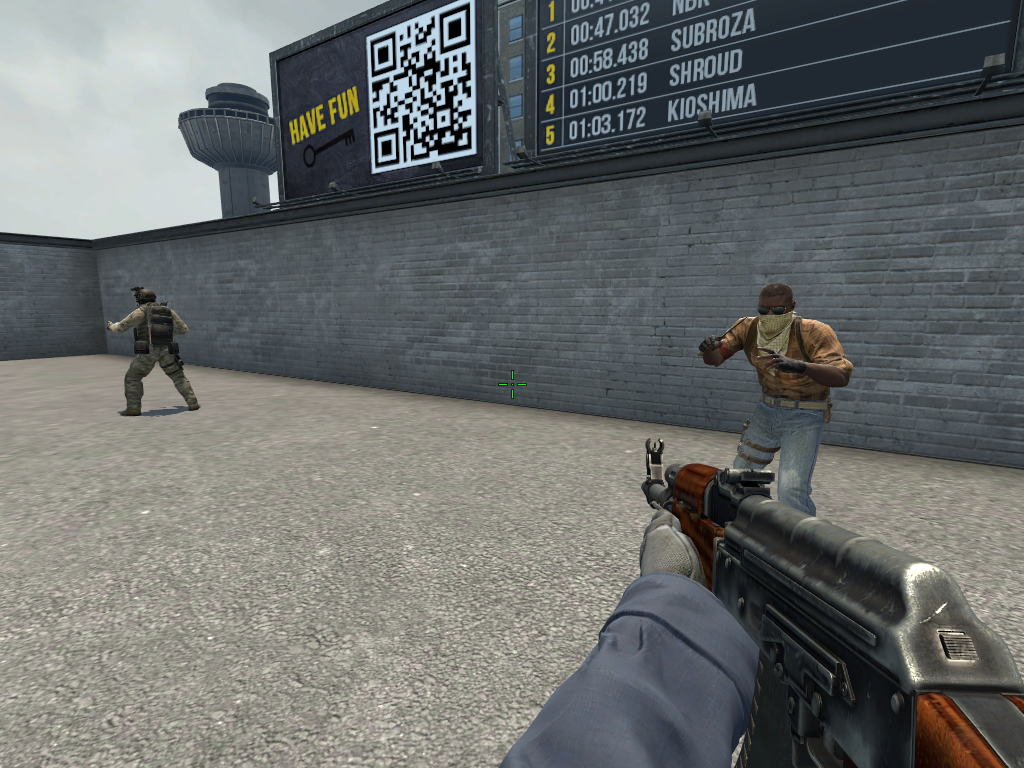ct head: (130, 281, 160, 309)
tr head: (756, 280, 799, 341)
